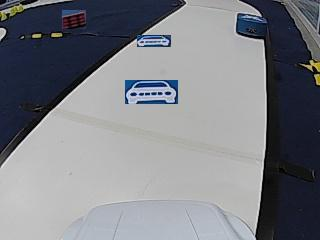prop: (236, 13, 267, 38)
